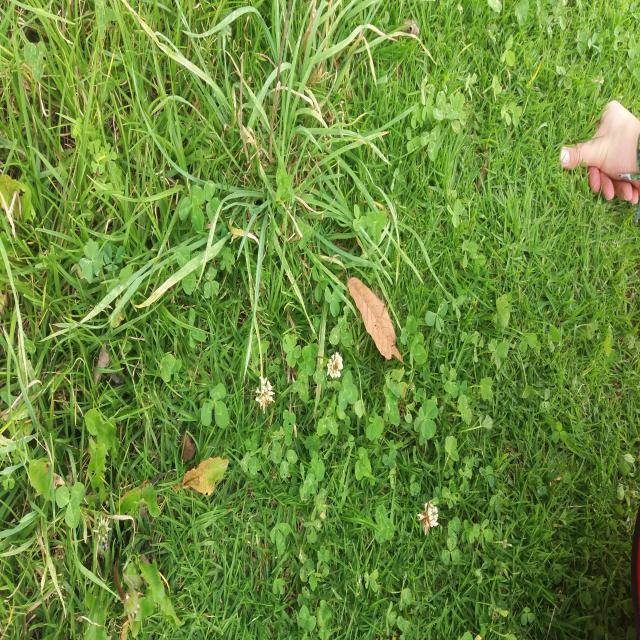Four Leaf Clover: (419, 401, 437, 439), (282, 333, 301, 368), (366, 416, 384, 441)
